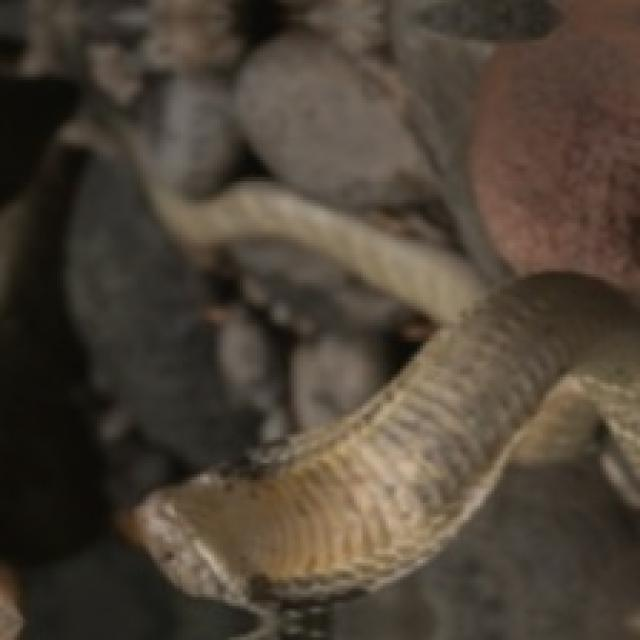king cobra: (131, 179, 640, 639)
